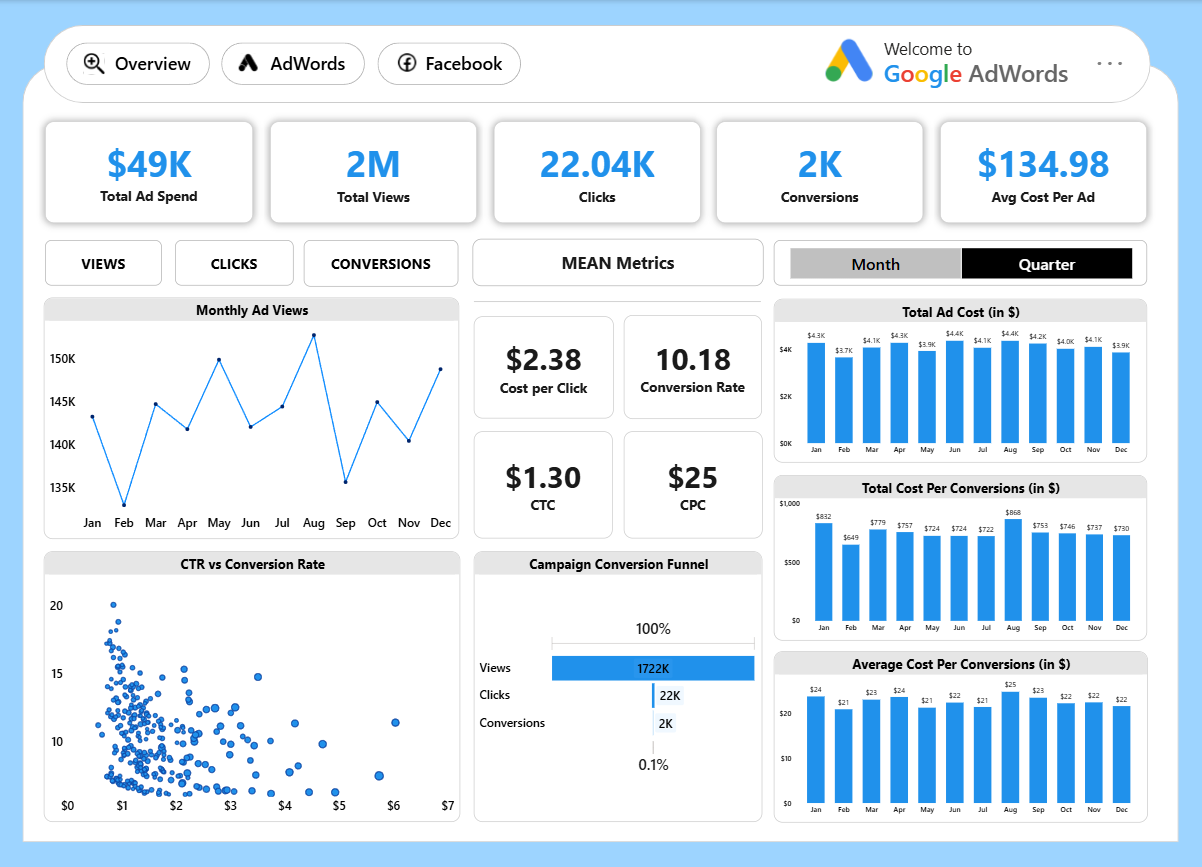

The page's visual inventory and layout, read from the dashboard file:
{"tool":"powerbi","page":{"name":"Adwords","canvas":[2700,1950],"ordinal":1},"visuals":[{"type":"shape","box":[49.1,144.4,2595.7,1747.9],"z":0},{"type":"shape","box":[1738,540,838,102],"z":1000},{"type":"cardVisual","title":"Total Ad Spend","fields":{"Data":["Sum(marketing_campaign.Cost per AdWords Ad (in $))"]},"box":[102.4,273,467.5,228.6],"z":2000},{"type":"cardVisual","fields":{"Data":["Sum(marketing_campaign.AdWords Ad Views)"]},"box":[606.1,273.3,465,229],"z":3000},{"type":"cardVisual","fields":{"Data":["Sum(marketing_campaign.AdWords Ad Clicks)"]},"box":[1107.6,273.3,465,229],"z":4000},{"type":"cardVisual","fields":{"Data":["Sum(marketing_campaign.AdWords Ad Conversions)"]},"box":[1609.2,273.3,465,229],"z":5000},{"type":"cardVisual","fields":{"Data":["Avg(marketing_campaign.AdWords Conversion Rate (Conversions / Click) (in %))"]},"box":[1401.7,708.6,310.3,233.5],"z":6000},{"type":"cardVisual","fields":{"Data":["Avg(marketing_campaign.AdWords Cost per Click (Ad Cost / Clicks) (in $))"]},"box":[1062.7,708.9,314.7,229.4],"z":7000},{"type":"areaChart","title":"Monthly Ad Views","fields":{"Category":["marketing_campaign.Short_Month"],"Y":["Sum(marketing_campaign.AdWords Ad Views)"]},"box":[97.5,667.5,932.5,542.5],"z":8000},{"type":"clusteredColumnChart","title":"Total Ad Cost (in $)","fields":{"Category":["marketing_campaign.Short_Month"],"Y":["Sum(marketing_campaign.Cost per AdWords Ad (in $))"]},"box":[1736.7,671.7,838.3,368.3],"z":9000},{"type":"scatterChart","title":"CTR vs Conversion Rate","fields":{"X":["Sum(marketing_campaign.AdWords Click-Through Rate (Clicks / View) (in %))"],"Y":["marketing_campaign.AdWords Conversion Rate (Conversions / Click) (in %)"],"Size":["Sum(marketing_campaign.Cost per AdWords Ad (in $))"]},"box":[98.3,1238.3,935,608.3],"z":10000},{"type":"funnel","title":"Campaign Conversion Funnel","fields":{"Y":["Sum(marketing_campaign.AdWords Ad Views)","Sum(marketing_campaign.AdWords Ad Clicks)","Sum(marketing_campaign.AdWords Ad Conversions)"]},"box":[1063.3,1238.3,648.3,608.3],"z":11000},{"type":"clusteredColumnChart","title":"Average Cost Per Conversions (in $)","fields":{"Category":["marketing_campaign.Short_Month"],"Y":["marketing_campaign.AW_Cost_per_Conversion"]},"box":[1737.5,1462.5,840,385],"z":12000},{"type":"clusteredColumnChart","title":"Total Cost Per Conversions (in $)","fields":{"Category":["marketing_campaign.Short_Month"],"Y":["Sum(marketing_campaign.Adwords_Cost_per_Conversion)"]},"box":[1738.7,1065.9,838.6,371.7],"z":13000},{"type":"cardVisual","fields":{"Data":["Avg(marketing_campaign.AdWords Click-Through Rate (Clicks / View) (in %))"]},"box":[1062.7,967.8,311.8,241.2],"z":14000},{"type":"cardVisual","fields":{"Data":["Avg(marketing_campaign.Adwords_Cost_per_Conversion)"]},"box":[1400.9,967.8,311.8,241.2],"z":15000},{"type":"actionButton","box":[682.5,537.5,347.5,105],"z":18000},{"type":"actionButton","box":[102.4,539.2,262.8,102.4],"z":19000},{"type":"actionButton","box":[392.4,539.2,266.2,102.4],"z":20000},{"type":"cardVisual","fields":{"Data":["Avg(marketing_campaign.Cost per AdWords Ad (in $))"]},"box":[2110.7,272.6,464.7,229],"z":21000},{"type":"slicer","fields":{"Values":["Time Dynamic Axis.Time Dynamic Axis"]},"box":[1748.9,550.3,817.6,82.4],"z":22000},{"type":"shape","box":[1064.7,638,645.1,79.9],"z":23000},{"type":"shape","box":[98.3,55.3,2485.1,175.1],"z":24000},{"type":"shape","title":"AVERAGE","box":[1060,536.7,653.3,106.7],"z":25000},{"type":"actionButton","box":[149.4,96,322.5,95.2],"z":28000},{"type":"actionButton","box":[497.6,95.2,322.5,95.2],"z":29000},{"type":"actionButton","box":[847.6,96.4,322.2,95.6],"z":30000},{"type":"textbox","box":[1938.6,79.9,288.8,67.6],"z":31000},{"type":"textbox","box":[1969.1,119.8,442.3,89.1],"z":32000},{"type":"textbox","box":[2432.9,95.2,116.7,110.6],"z":33000},{"type":"actionButton","box":[1849.3,79.9,113.7,113.7],"z":34000}]}

Visuals, with their boxes in screenshot pixels (x1, y1, x2, y2), scaled from the page's 2700x1950 canvas onto the 1202x867 screenshot:
shape: 22,64,1177,841
shape: 774,240,1147,285
"Total Ad Spend" cardVisual: 46,121,254,223
cardVisual - Sum(marketing_campaign.AdWords Ad Views): 270,122,477,223
cardVisual - Sum(marketing_campaign.AdWords Ad Clicks): 493,122,700,223
cardVisual - Sum(marketing_campaign.AdWords Ad Conversions): 716,122,923,223
cardVisual - Avg(marketing_campaign.AdWords Conversion Rate (Conversions / Click) (in %)): 624,315,762,419
cardVisual - Avg(marketing_campaign.AdWords Cost per Click (Ad Cost / Clicks) (in $)): 473,315,613,417
"Monthly Ad Views" areaChart: 43,297,459,538
"Total Ad Cost (in $)" clusteredColumnChart: 773,299,1146,462
"CTR vs Conversion Rate" scatterChart: 44,551,460,821
"Campaign Conversion Funnel" funnel: 473,551,762,821
"Average Cost Per Conversions (in $)" clusteredColumnChart: 774,650,1147,821
"Total Cost Per Conversions (in $)" clusteredColumnChart: 774,474,1147,639
cardVisual - Avg(marketing_campaign.AdWords Click-Through Rate (Clicks / View) (in %)): 473,430,612,538
cardVisual - Avg(marketing_campaign.Adwords_Cost_per_Conversion): 624,430,762,538
actionButton: 304,239,459,286
actionButton: 46,240,163,285
actionButton: 175,240,293,285
cardVisual - Avg(marketing_campaign.Cost per AdWords Ad (in $)): 940,121,1147,223
slicer - Time Dynamic Axis.Time Dynamic Axis: 779,245,1143,281
shape: 474,284,761,319
shape: 44,25,1150,102
"AVERAGE" shape: 472,239,763,286
actionButton: 67,43,210,85
actionButton: 222,42,365,85
actionButton: 377,43,521,85
textbox: 863,36,992,66
textbox: 877,53,1074,93
textbox: 1083,42,1135,92
actionButton: 823,36,874,86
